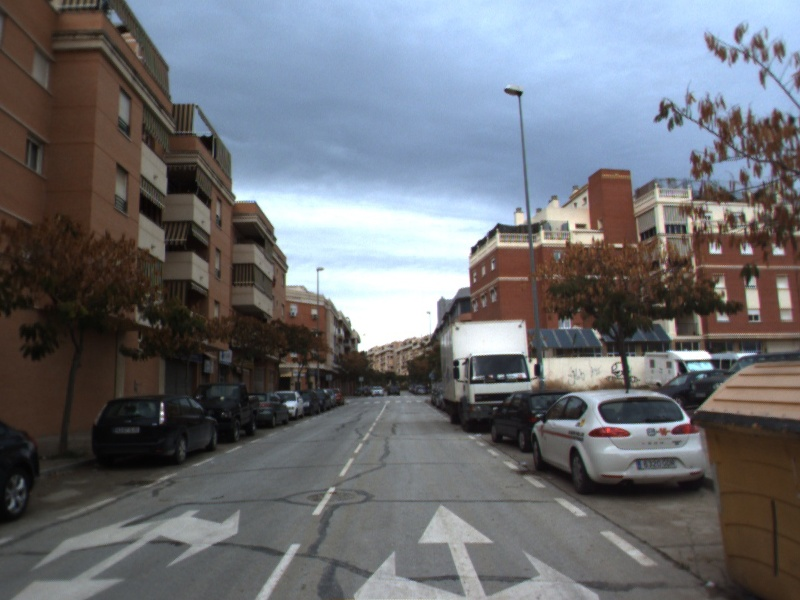STRAIGHT_LEFT_RIGHT: (348, 500, 603, 600)
